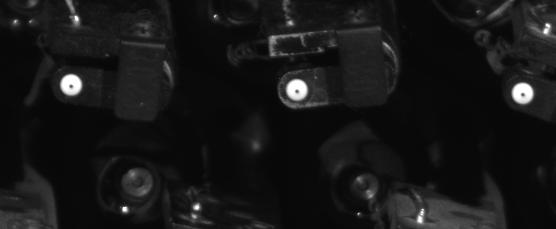fiber: (55, 70, 88, 101), (507, 77, 538, 110), (281, 77, 314, 105)
